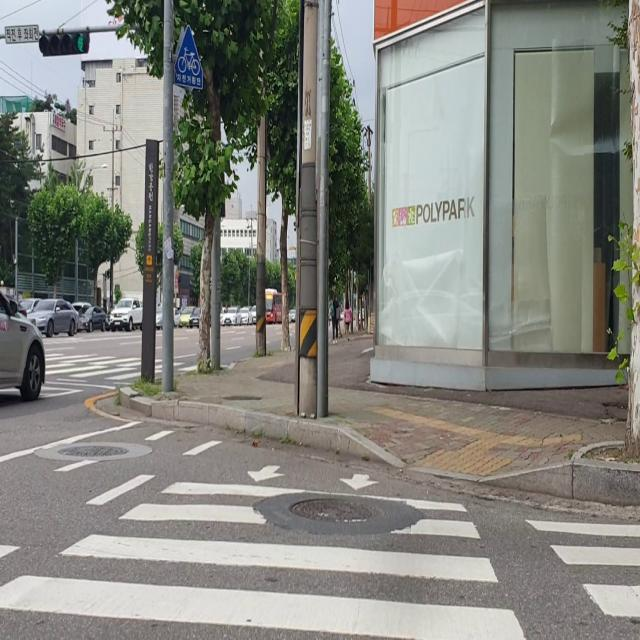횡단보도: (0, 458, 640, 640), (46, 350, 184, 388)
